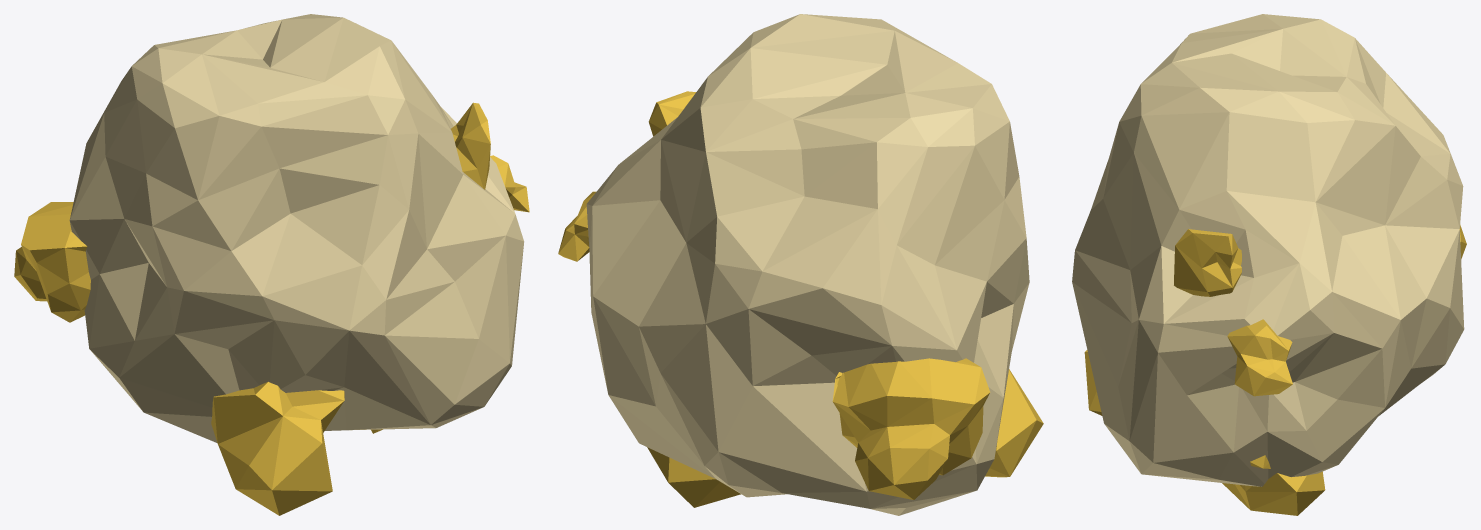
Rendered from MetalOre (56).fbx.
3 renders of one model, left to right at view 1: azimuth 30°, elevation 25°; view 2: azimuth 150°, elevation 25°; view 3: azimuth 270°, elevation 25°, orthographic. The views are drawn at different scales.
Visible parts, largest first — view 1: Asteroid411; view 2: Asteroid411; view 3: Asteroid411.
Boxes of the visible parts, x1=… form: Asteroid411: x1=14, y1=14, x2=529, y2=515; Asteroid411: x1=558, y1=14, x2=1043, y2=515; Asteroid411: x1=1072, y1=14, x2=1466, y2=515.
Bounding box in the file's own units: 287 × 261 × 230.
